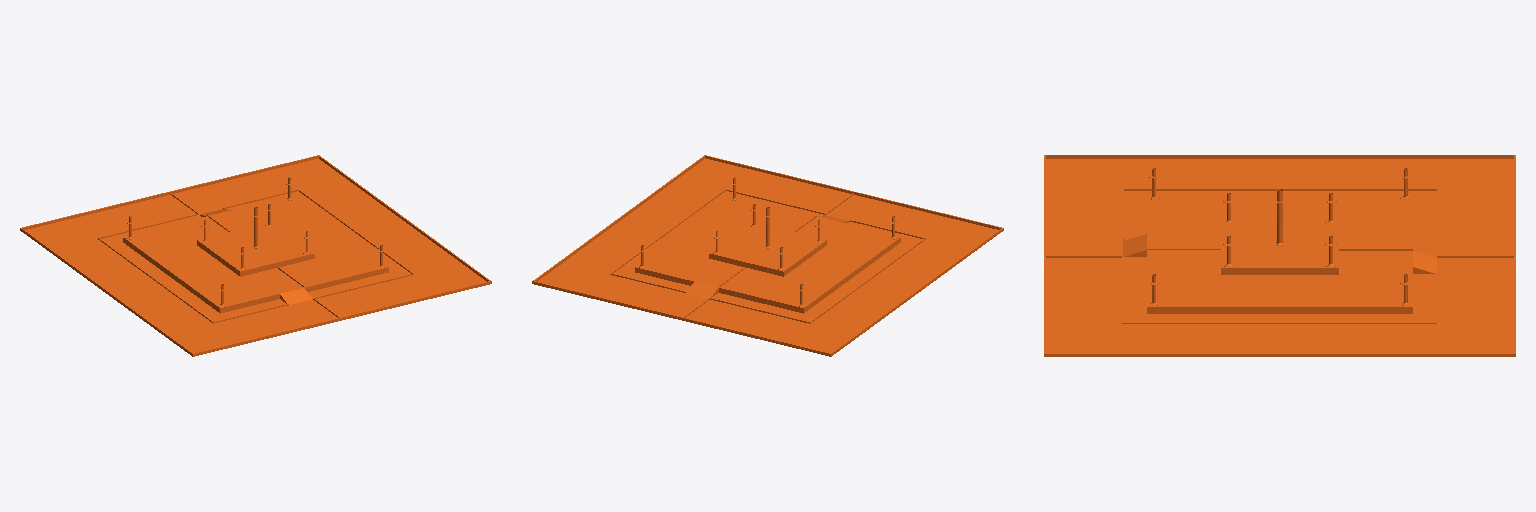
URDF robot description (robocon2023_map):
<?xml version="1.0" encoding="utf-8"?>
<!-- This URDF was automatically created by SolidWorks to URDF Exporter! Originally created by [author] ([email redacted]) 
     Commit Version: 1.6.0-4-g7f85cfe  Build Version: 1.6.7995.38578
     For more information, please see http://wiki.ros.org/sw_urdf_exporter -->
<robot
  name="robocon2023_map">
  <link
    name="base_link">
    <inertial>
      <origin
        xyz="1.07472705275052E-07 0.125345923342192 -6.4870825438598E-07"
        rpy="0 0 0" />
      <mass
        value="12903.9435690276" />
      <inertia
        ixx="60478.237136527"
        ixy="-3.9752704334907E-06"
        ixz="91.327827685739"
        iyy="93770.2328953049"
        iyz="-0.000798388377672673"
        izz="33369.4233571023" />
    </inertial>
    <visual>
      <origin
        xyz="0 0 0"
        rpy="0 0 0" />
      <geometry>
        <mesh
          filename="package://robocon2023_map/meshes/base_link.STL" />
      </geometry>
      <material
        name="">
        <color
          rgba="0.956862745098039 0.474509803921569 0.164705882352941 1" />
      </material>
    </visual>
    <collision>
      <origin
        xyz="0 0 0"
        rpy="0 0 0" />
      <geometry>
        <mesh
          filename="package://robocon2023_map/meshes/base_link.STL" />
      </geometry>
    </collision>
  </link>
</robot>

--- Facts derived from the render (not from the file) ---
Views: 3 orthographic renders of the robot side by side, from view 1: azimuth 30°, elevation 25°; view 2: azimuth 150°, elevation 25°; view 3: azimuth 270°, elevation 25°.
Robot: robocon2023_map — 1 links, 0 joints (none); root link base_link; default pose: all joints at 0.
Links seen in each view (by area): view 1: base_link; view 2: base_link; view 3: base_link.
Link boxes in pixels (x1,y1,x2,y2): base_link: (20, 155, 491, 356); base_link: (532, 155, 1003, 356); base_link: (1044, 155, 1515, 356).
Size in the robot's own frame: 12 by 12 by 1.91 metres.
1 mesh visuals loaded from 1 distinct referenced files (1 binary STL).